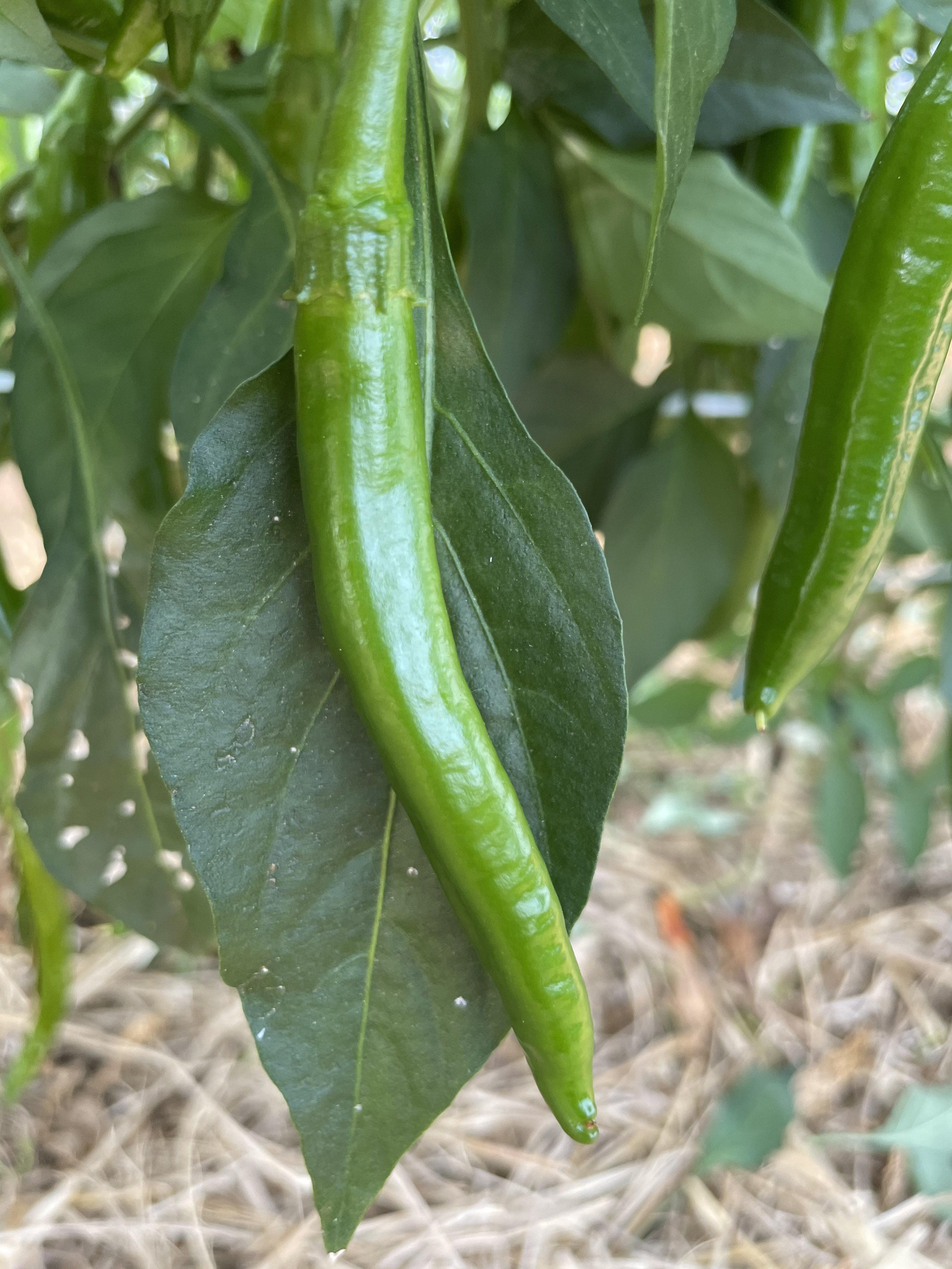Buah Cabai Sehat: (283, 157, 609, 1148), (737, 0, 952, 746)
